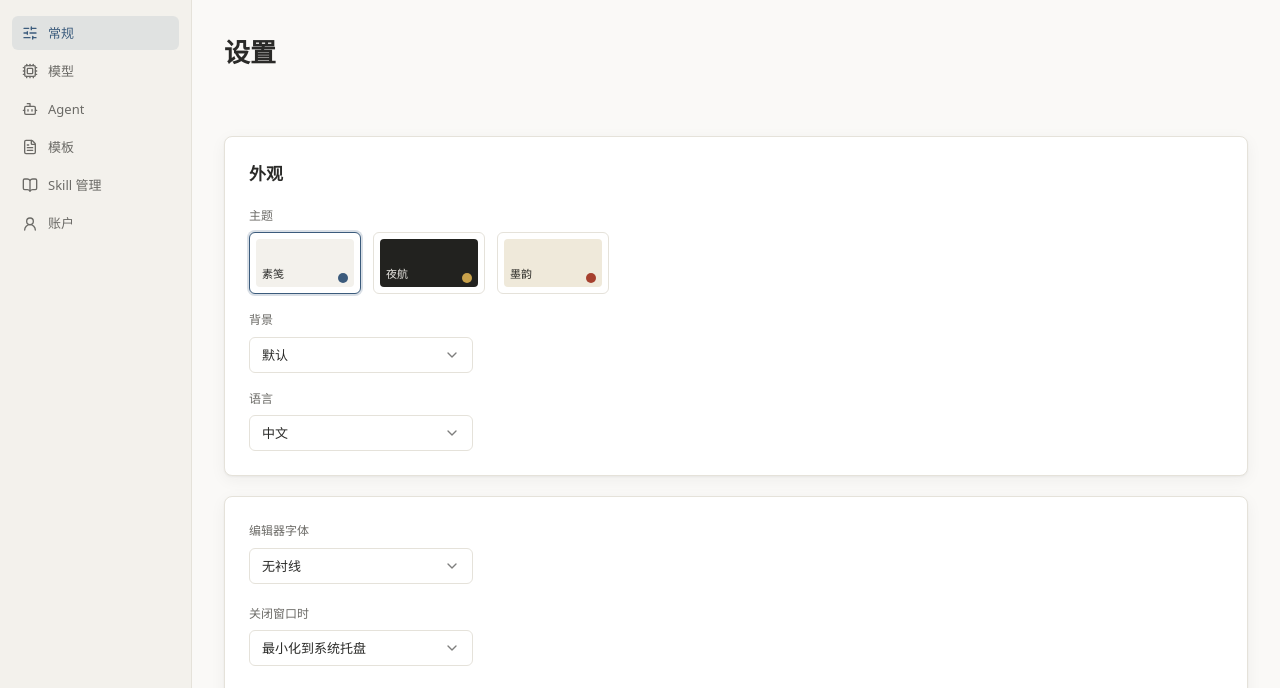
Scenario: 设置页 — 账户 /health 版本兜底分支（#105 补测） › /health 返回合法 version → 展示「v版本号」
This screenshot has width=1280, height=688.
Click the button "账户". click: coordinates (96, 224)
box: [12,206,179,241]
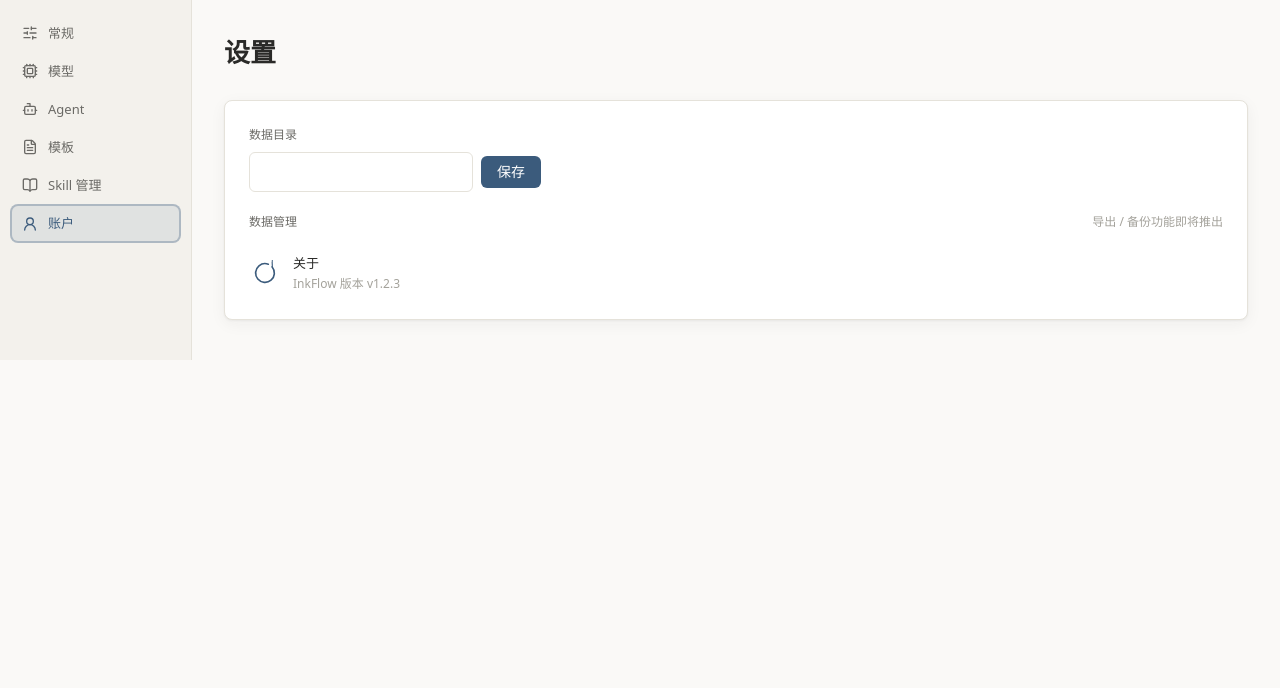
Expected: the text "InkFlow 版本 v1.2.3" is shown, [293,274,400,295]
